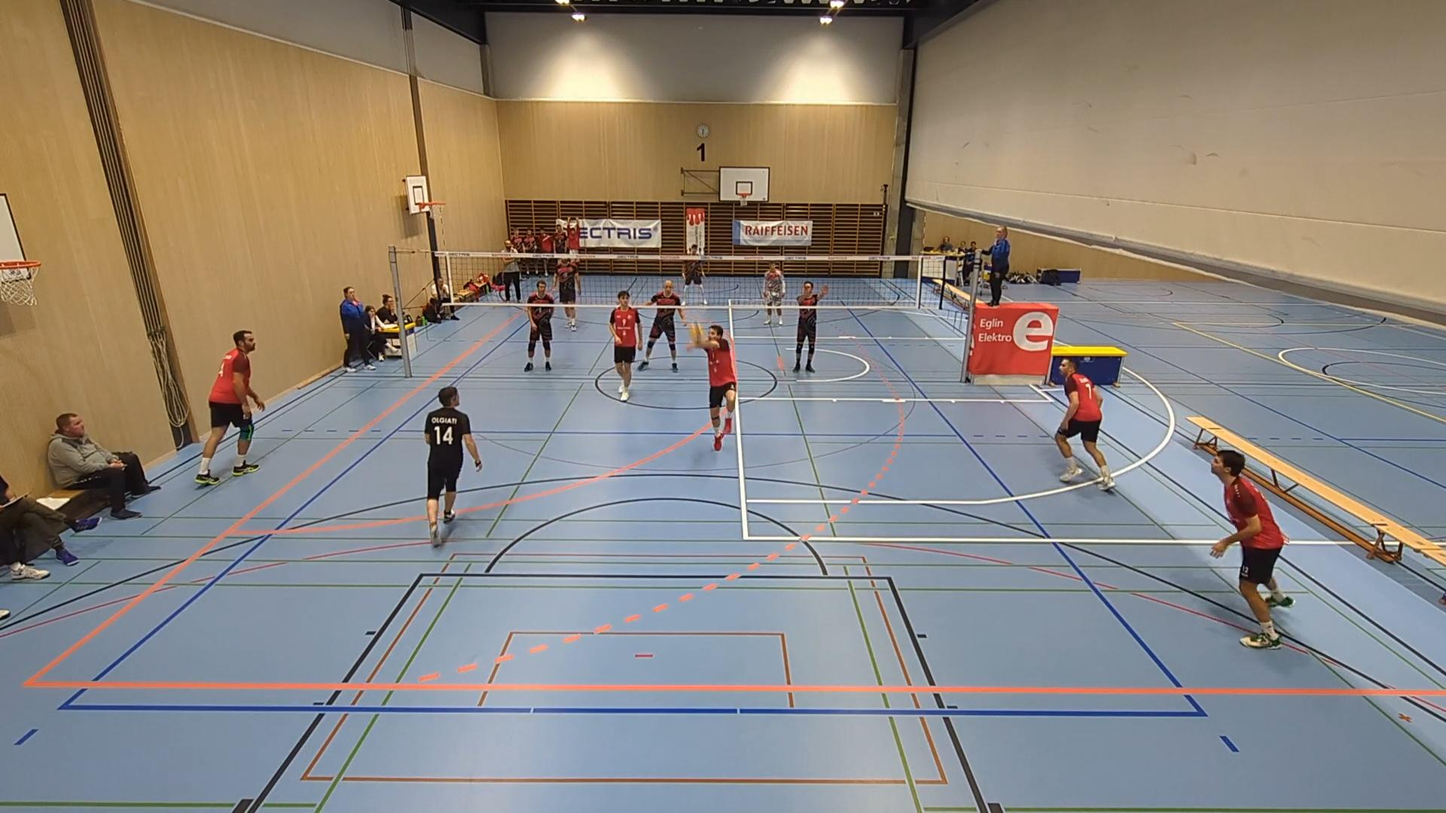alzata: (687, 319, 741, 451)
